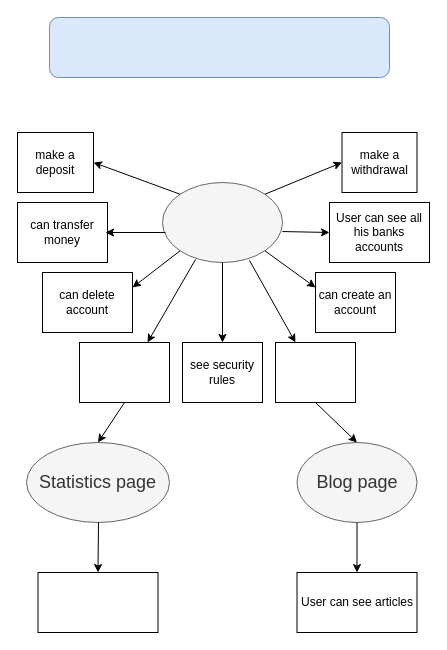
Some shapes in this 447 by 650 pixel diagram are drawn without their labels. The centre of each missing label's shape, as x and y in pixels:
Functional tree diagram PIGGY BANK: the point at 219,47
go to blog page: the point at 315,372
go to statistics page: the point at 124,372
Homepage: the point at 222,222
User can see financial informations: the point at 97,602
